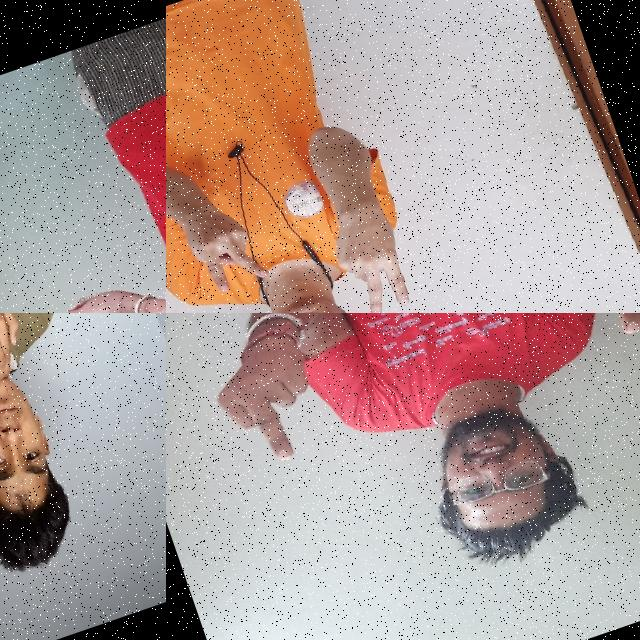Chin Flick: (0, 313, 114, 598)
Middle Finger: (191, 313, 345, 484)
Reversed Victory: (310, 180, 431, 313), (166, 174, 273, 305)
